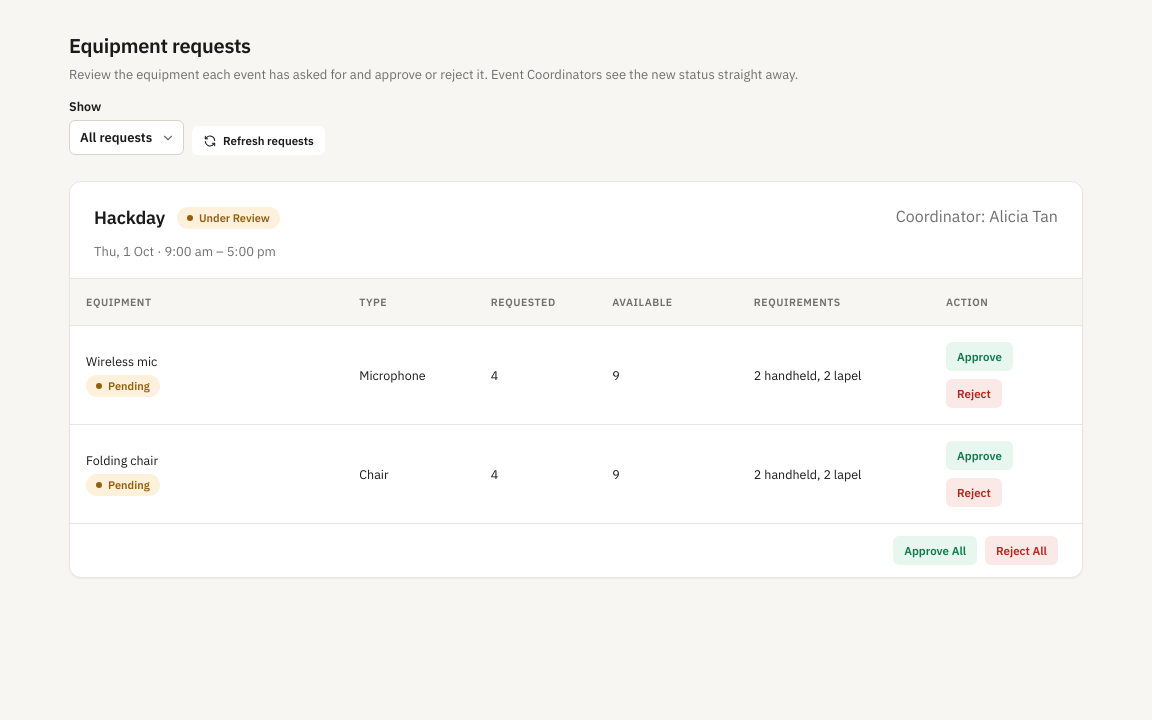
Test: AC2: Approve updates one equipment row and the other stays pending under All requests
The image size is (1152, 720).
expect the text "Folding chair" is shown: met, box left=86, top=452, right=158, bottom=468
Click the button "Approve" in the row of "Wireless mic" at (979, 356), box left=946, top=342, right=1013, bottom=371
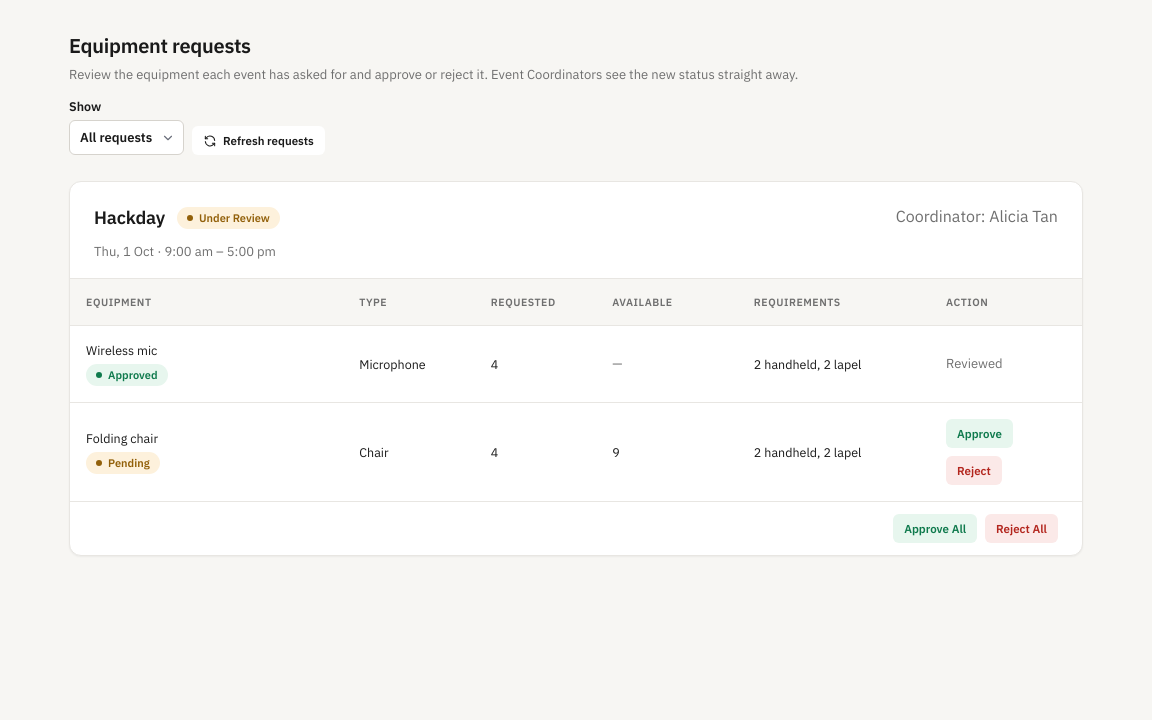
expect the text "Folding chair" is shown: met, box left=86, top=430, right=158, bottom=446
expect the text "Approved" is shown: met, box left=86, top=364, right=168, bottom=386
